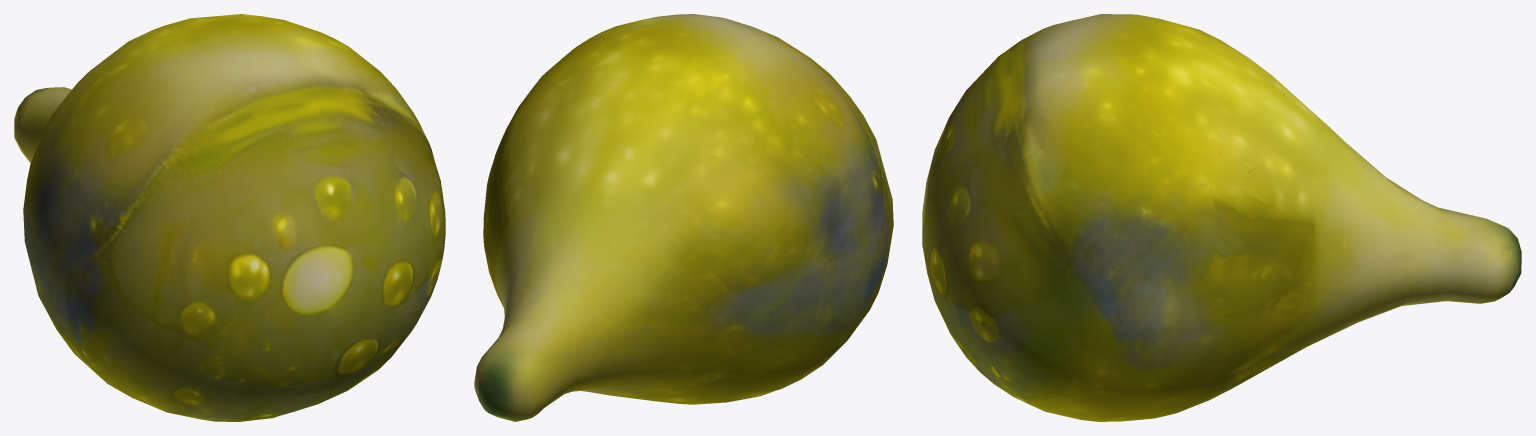
Rendered from AphidDrop.glb.
3 views of the same model, side by side, from view 1: azimuth 30°, elevation 25°; view 2: azimuth 150°, elevation 25°; view 3: azimuth 270°, elevation 25° (orthographic). The views are drawn at different scales.
Size of the model in its own units: 1.39 by 1.32 by 1.99.
Materials: 1 (1 with a texture image).
